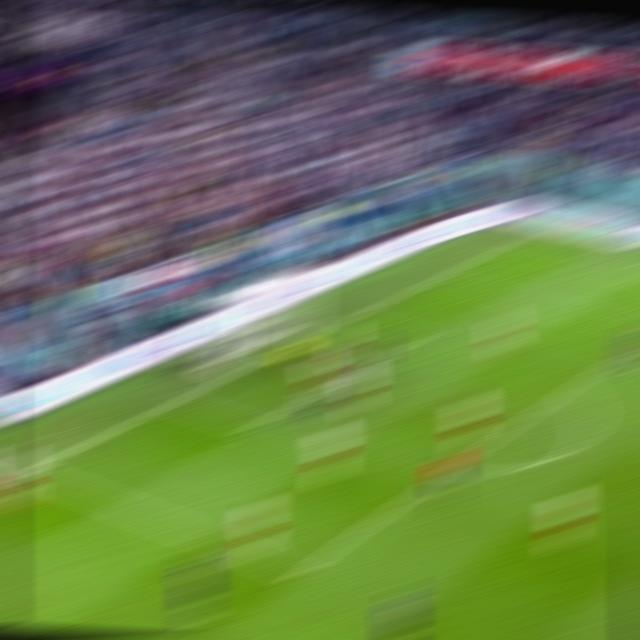bigarea_bottom_inner: (282, 561, 318, 584)
bigarea_bottom_outter: (13, 464, 45, 480)
bigarea_top_outter: (422, 272, 454, 283)
corner: (509, 231, 541, 240)
smallarea_bottom_inner: (234, 414, 269, 437)
smallarea_bottom_outter: (160, 391, 194, 408)
smallarea_top_inner: (407, 328, 440, 343)
smallarea_top_outter: (337, 310, 370, 323)
top_arc_area_intersection: (555, 380, 588, 394)
